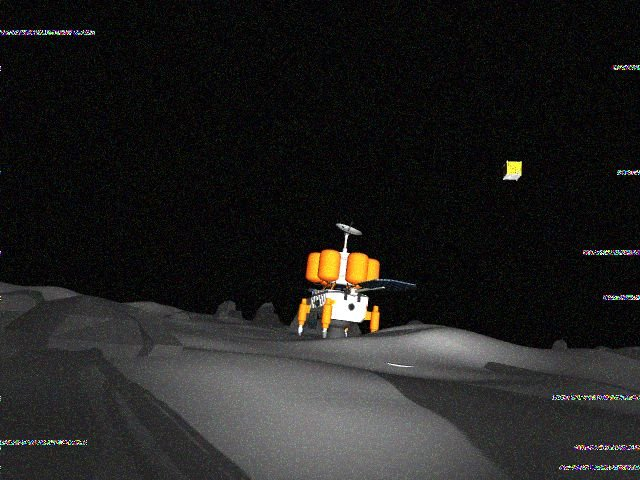homebase: (283, 217, 417, 343)
